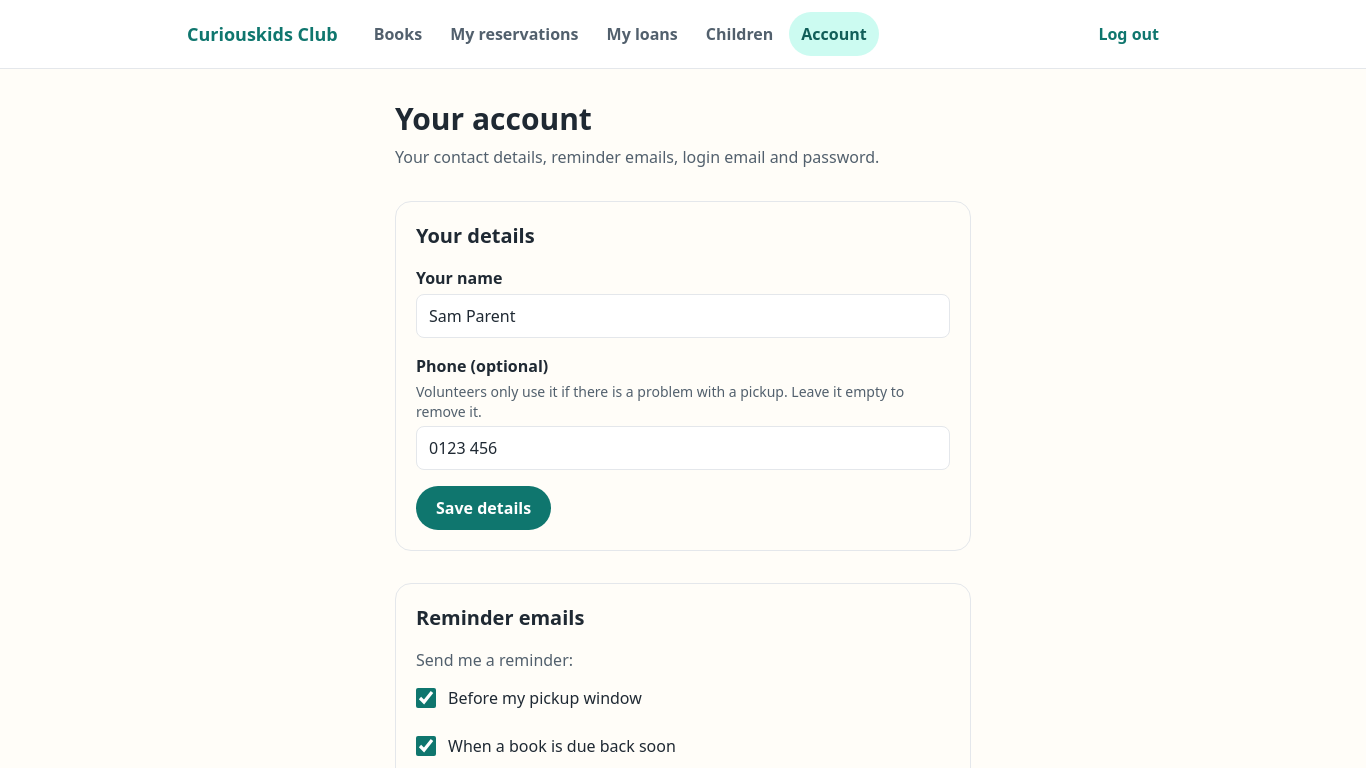
Your account page › FR-ID-06: saves a new name and removes the phone
Replace the text in the field labelled "Your name" with " Alex Parent " at (683, 316), box top-left (416, 294), bottom-right (950, 338)
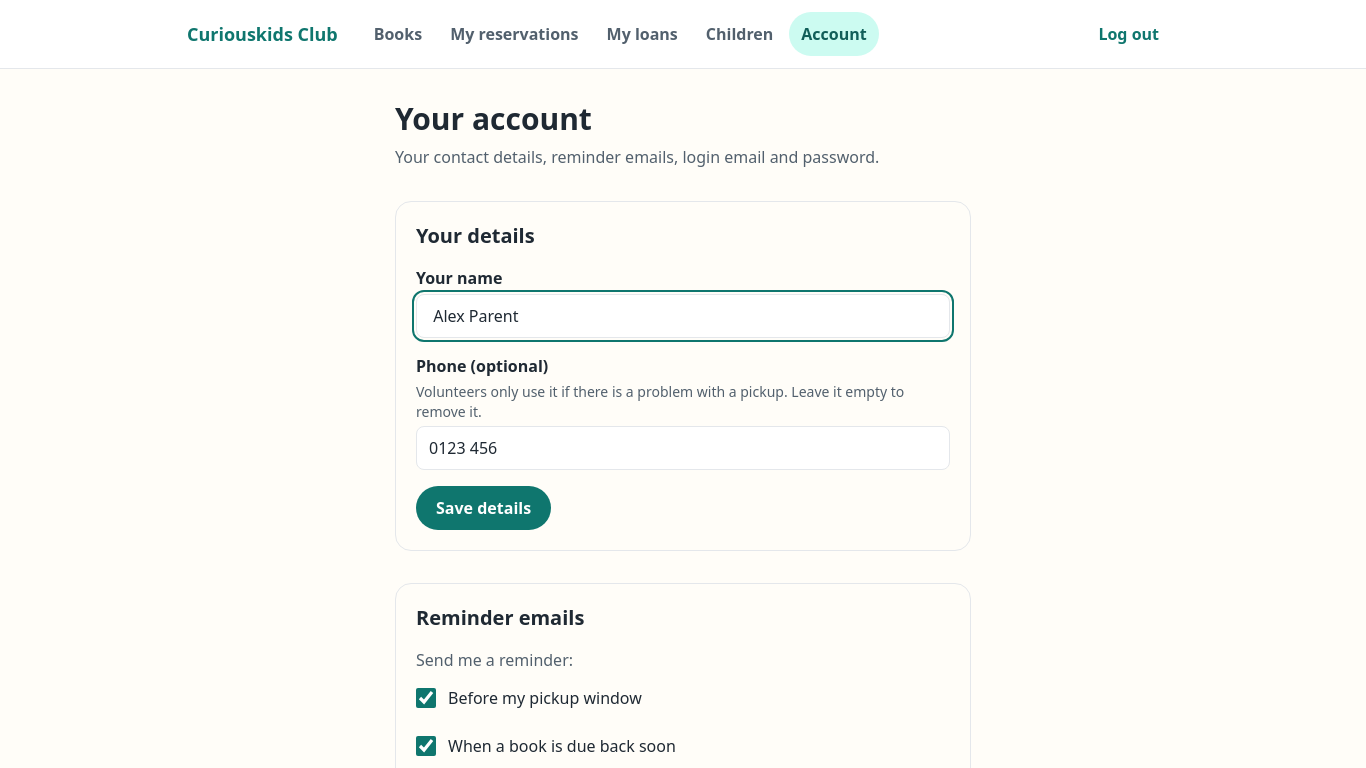
Clear the field labelled "Phone (optional)" at (683, 448), box top-left (416, 426), bottom-right (950, 470)
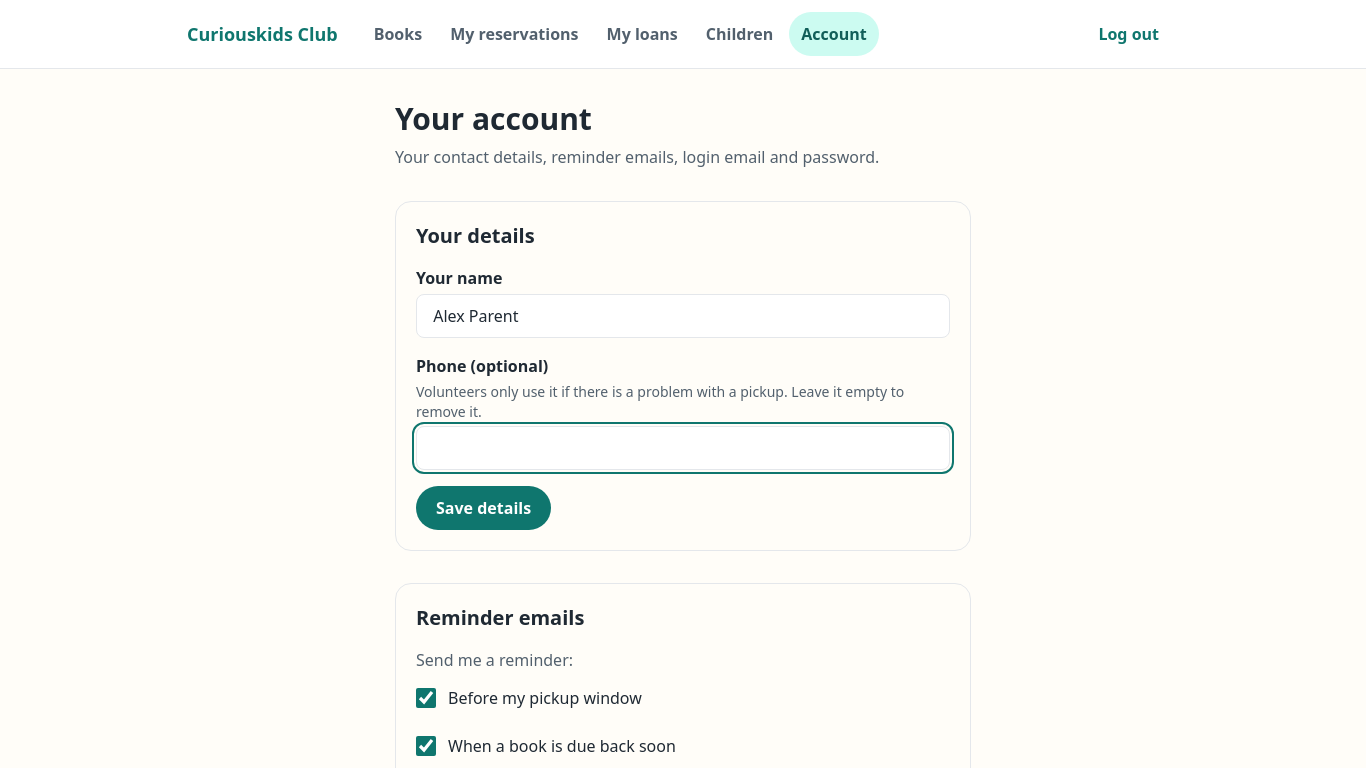
Click the button "Save details" at (484, 508), box top-left (416, 486), bottom-right (551, 530)
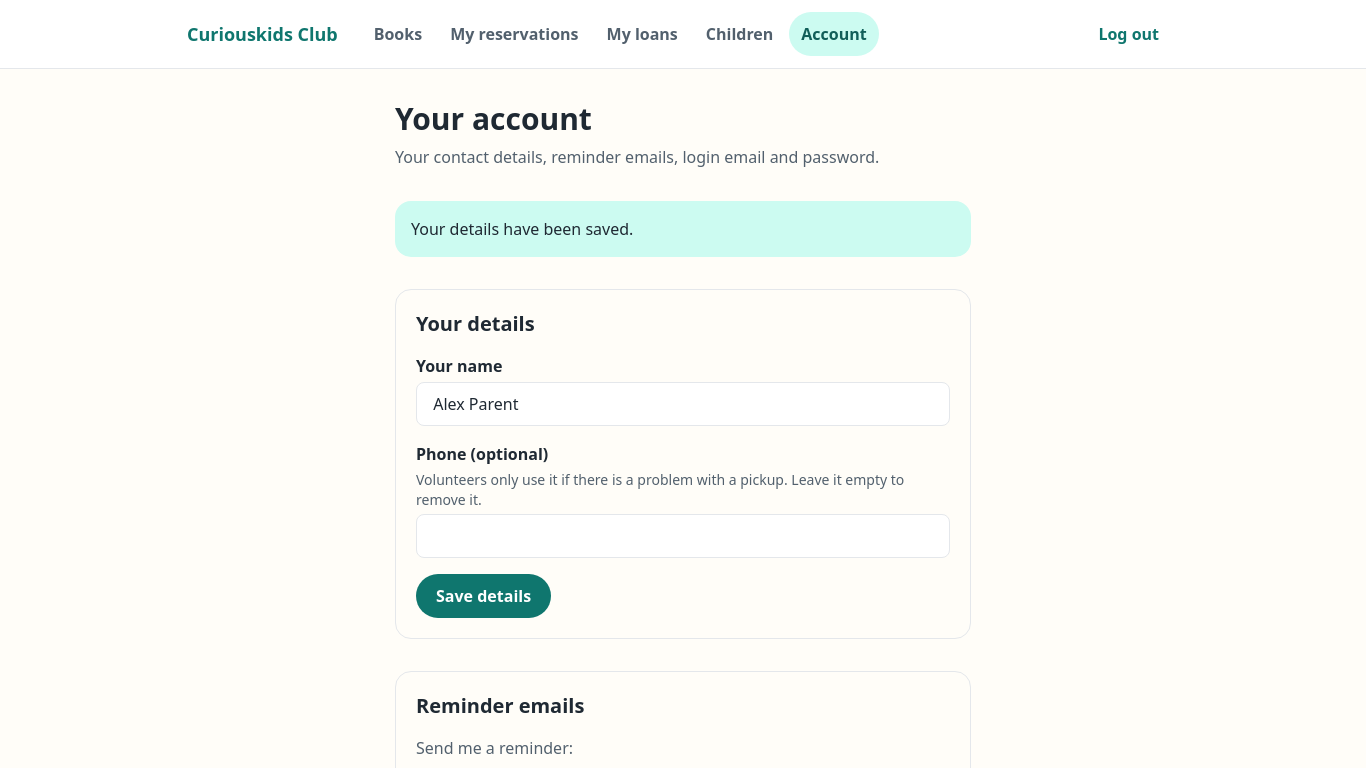
Expected: the text "Your details have been saved." is shown, top-left (395, 201), bottom-right (971, 257)
